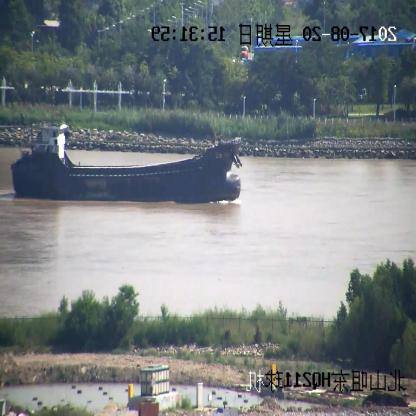Bulk Carrier: (13, 120, 241, 204)
